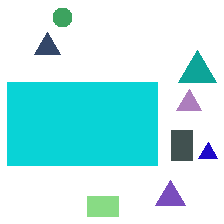circle: (53, 8, 71, 26)
rectangle: (7, 82, 157, 165), (171, 130, 192, 160), (87, 196, 118, 216)
triangle: (178, 50, 216, 82), (155, 180, 185, 205), (34, 32, 60, 54), (176, 89, 201, 110), (198, 142, 217, 158)
